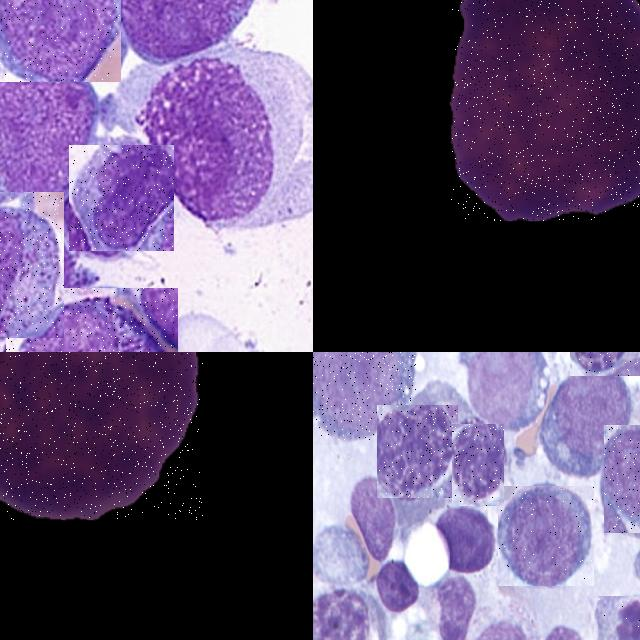ALL Negative Cells: (5, 288, 178, 352), (498, 486, 594, 586), (313, 352, 416, 440), (603, 424, 640, 533), (588, 596, 640, 640)
ALL Positive Cell: (451, 0, 640, 221), (0, 352, 203, 519), (69, 145, 174, 251), (0, 0, 121, 82), (0, 192, 63, 338), (377, 405, 458, 498), (452, 424, 504, 506), (377, 560, 416, 614), (570, 352, 640, 375)
